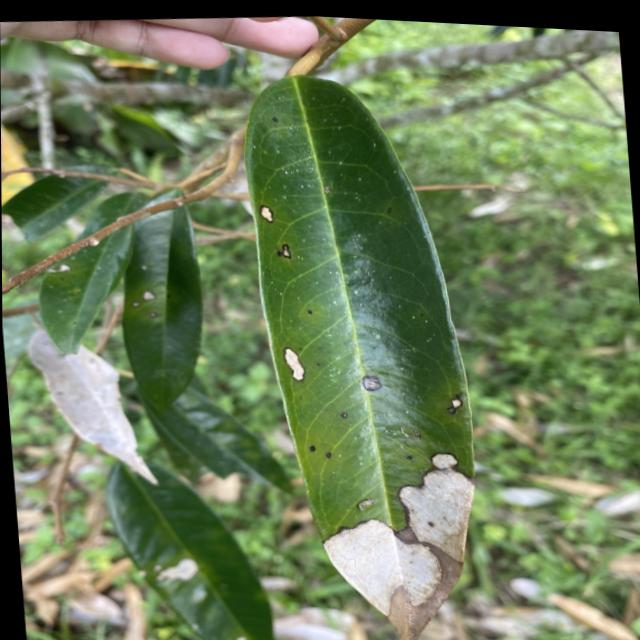Leaf Blight: (341, 350, 567, 609), (272, 448, 547, 640), (240, 304, 346, 402), (229, 140, 299, 269)
